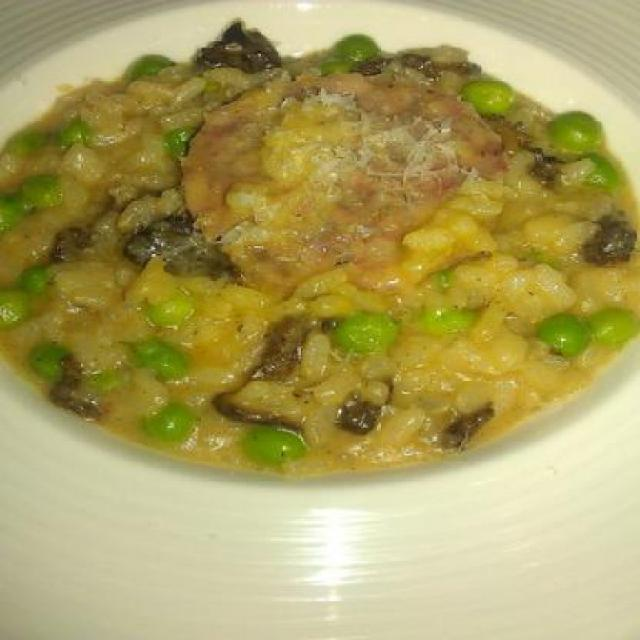Risotto: (25, 48, 624, 470)
